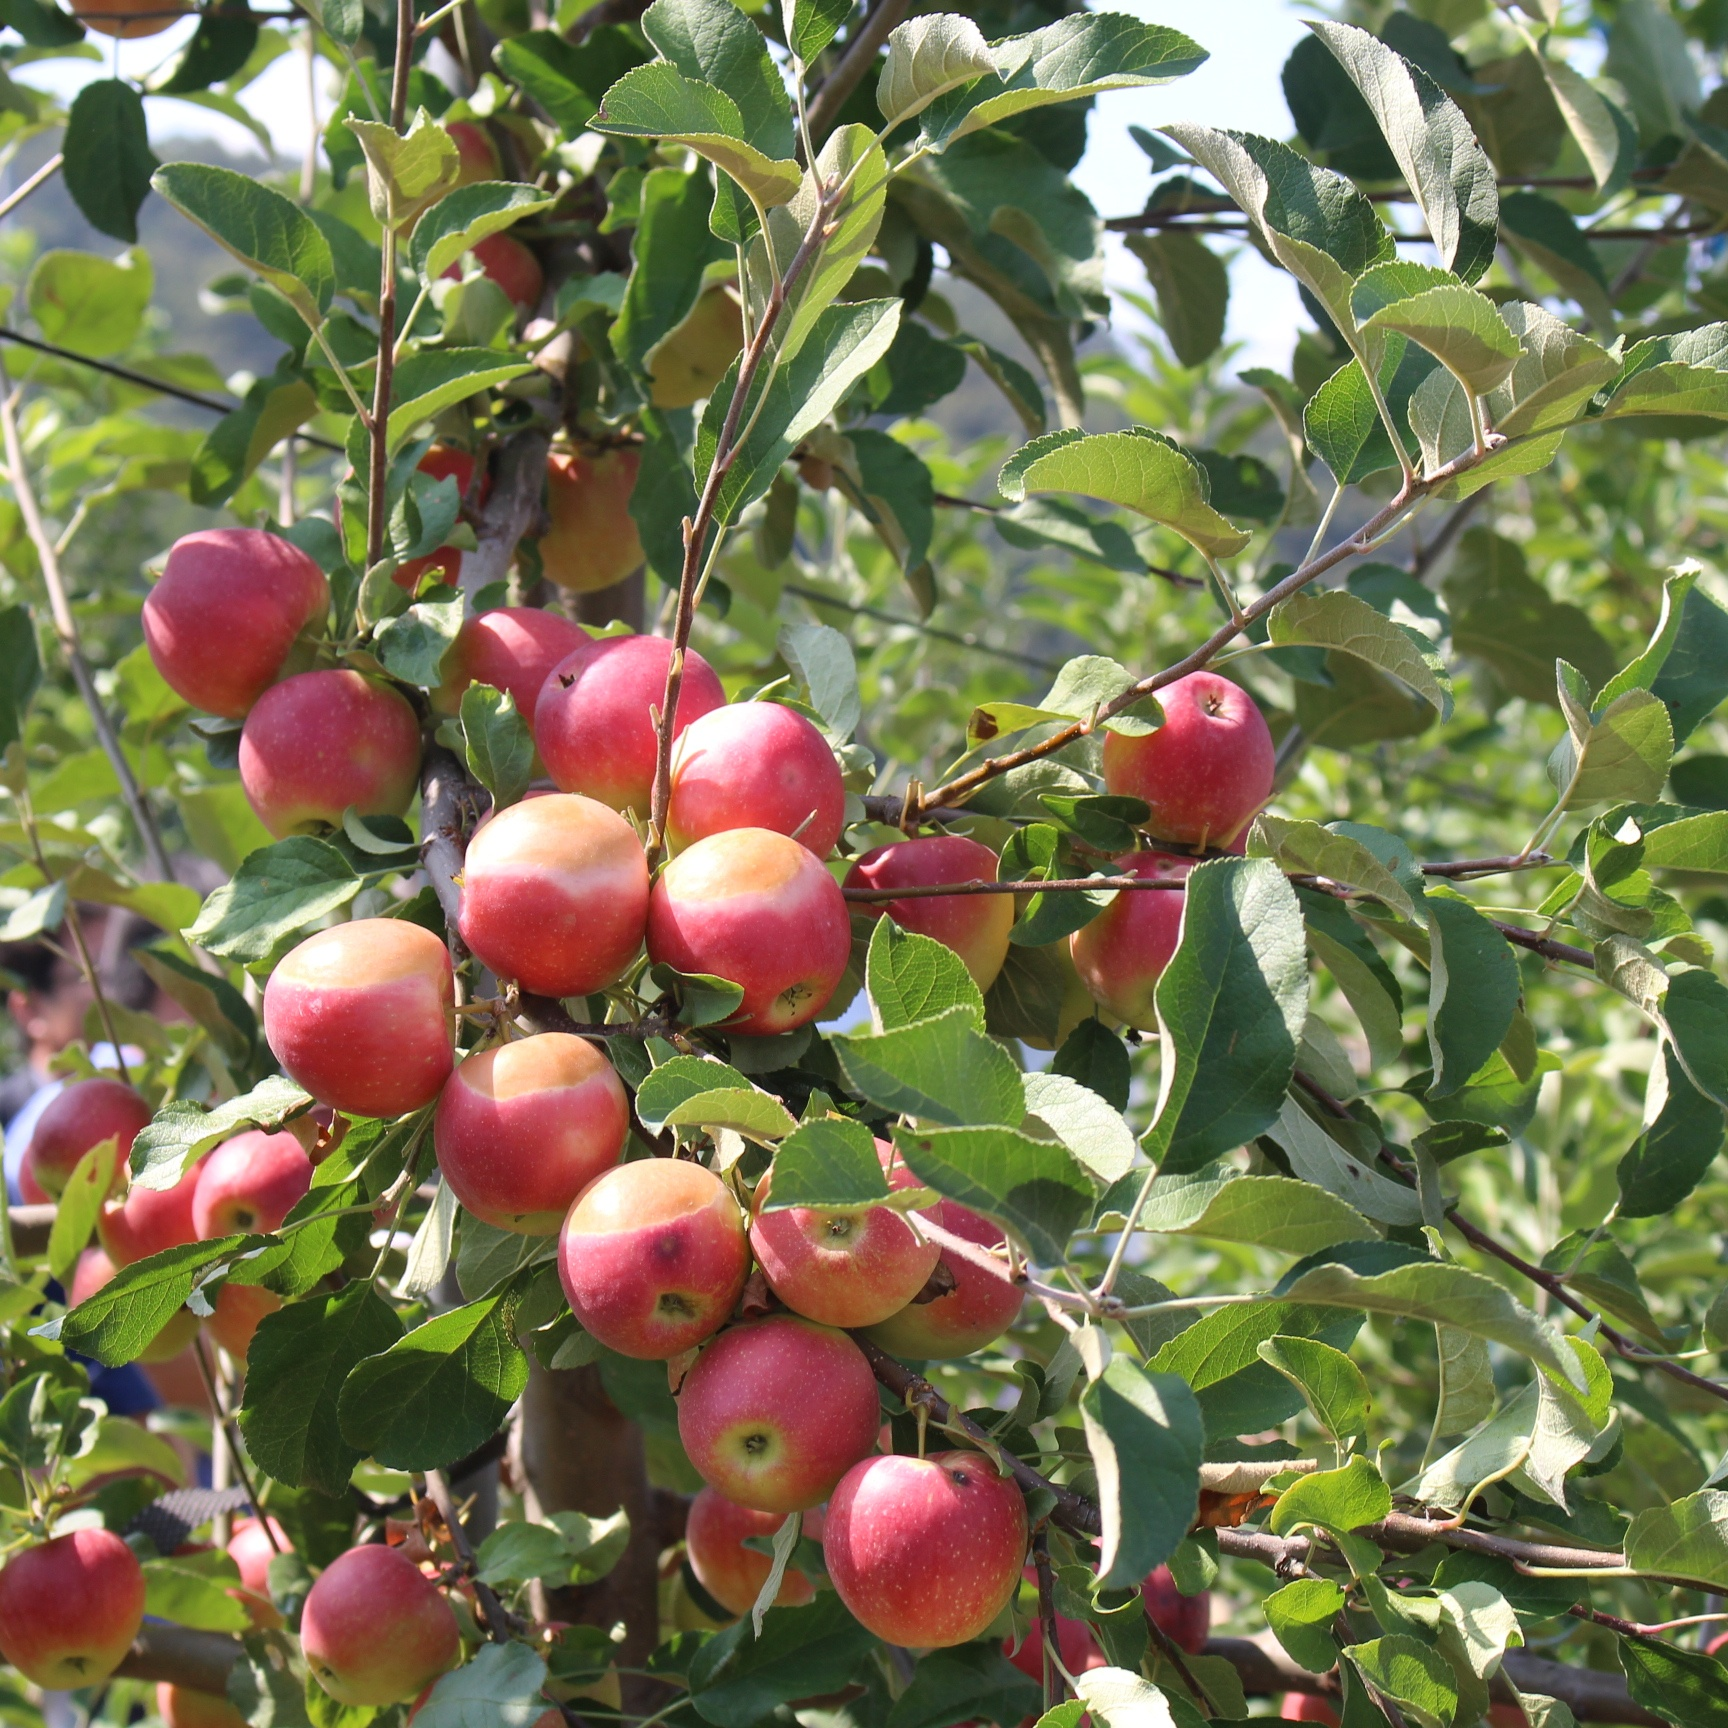apple: (650, 820, 862, 1032), (429, 1040, 635, 1242), (255, 907, 453, 1112), (747, 1125, 945, 1329), (831, 1440, 1022, 1649), (142, 516, 339, 714), (1093, 665, 1282, 869), (548, 1155, 741, 1353), (647, 703, 850, 889), (673, 1317, 878, 1495), (457, 798, 644, 992), (1060, 847, 1253, 1032), (834, 824, 1021, 1005), (290, 1537, 476, 1715), (536, 642, 725, 813), (241, 661, 429, 832), (514, 437, 666, 585), (2, 1525, 142, 1685), (97, 1109, 225, 1275), (440, 612, 595, 733), (28, 1082, 155, 1211), (201, 1135, 312, 1247)
